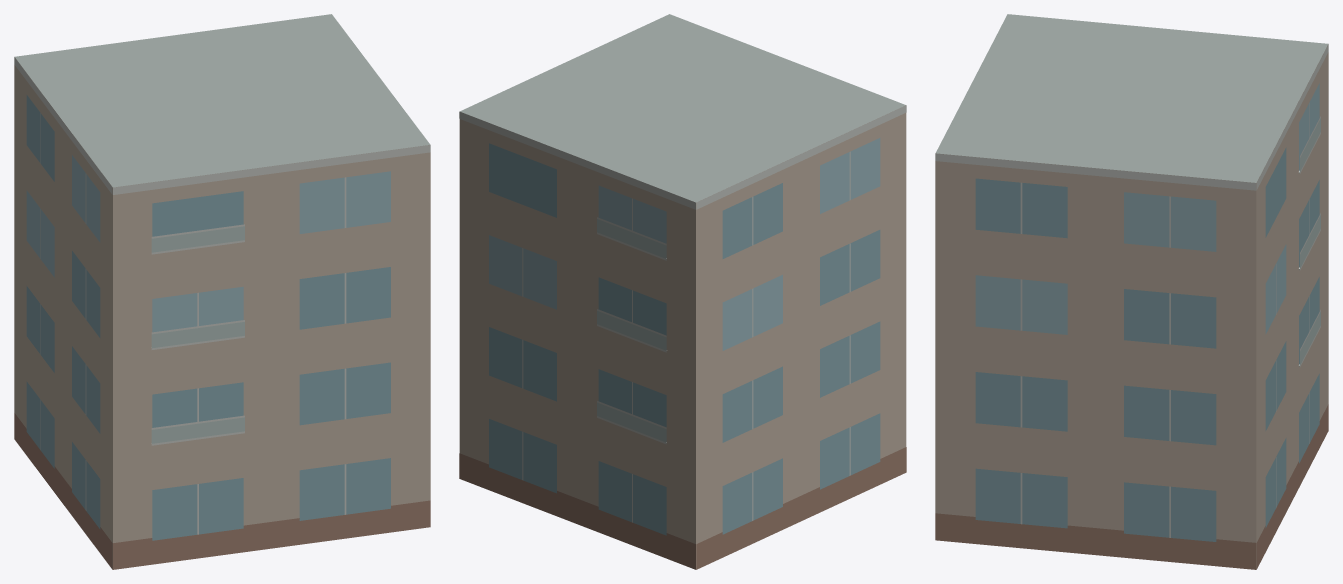
File: residential-8cc5497c-ed64-499d-b0b2-4b14ffd5110c.glb
3 views of the same model, side by side, from view 1: azimuth 30°, elevation 25°; view 2: azimuth 150°, elevation 25°; view 3: azimuth 270°, elevation 25° (orthographic). The views are drawn at different scales.
Visible parts, largest first — view 1: residential-8cc5497c-ed64-499d-b0b2-4b14ffd5110c.tmp; view 2: residential-8cc5497c-ed64-499d-b0b2-4b14ffd5110c.tmp; view 3: residential-8cc5497c-ed64-499d-b0b2-4b14ffd5110c.tmp.
Part boxes in pixels (<box>): residential-8cc5497c-ed64-499d-b0b2-4b14ffd5110c.tmp: <box>14,14,430,569</box>; residential-8cc5497c-ed64-499d-b0b2-4b14ffd5110c.tmp: <box>459,14,906,569</box>; residential-8cc5497c-ed64-499d-b0b2-4b14ffd5110c.tmp: <box>935,14,1328,569</box>.
Size of the model in its own units: 11.43 by 12.2 by 11.24.
